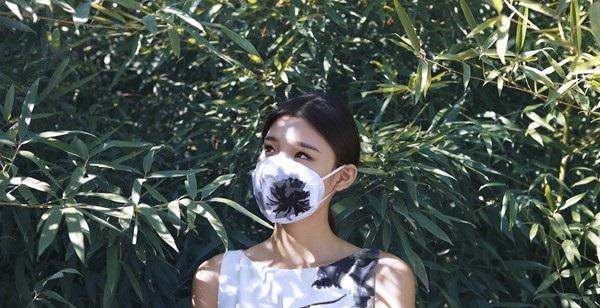OK: (249, 134, 335, 220)
